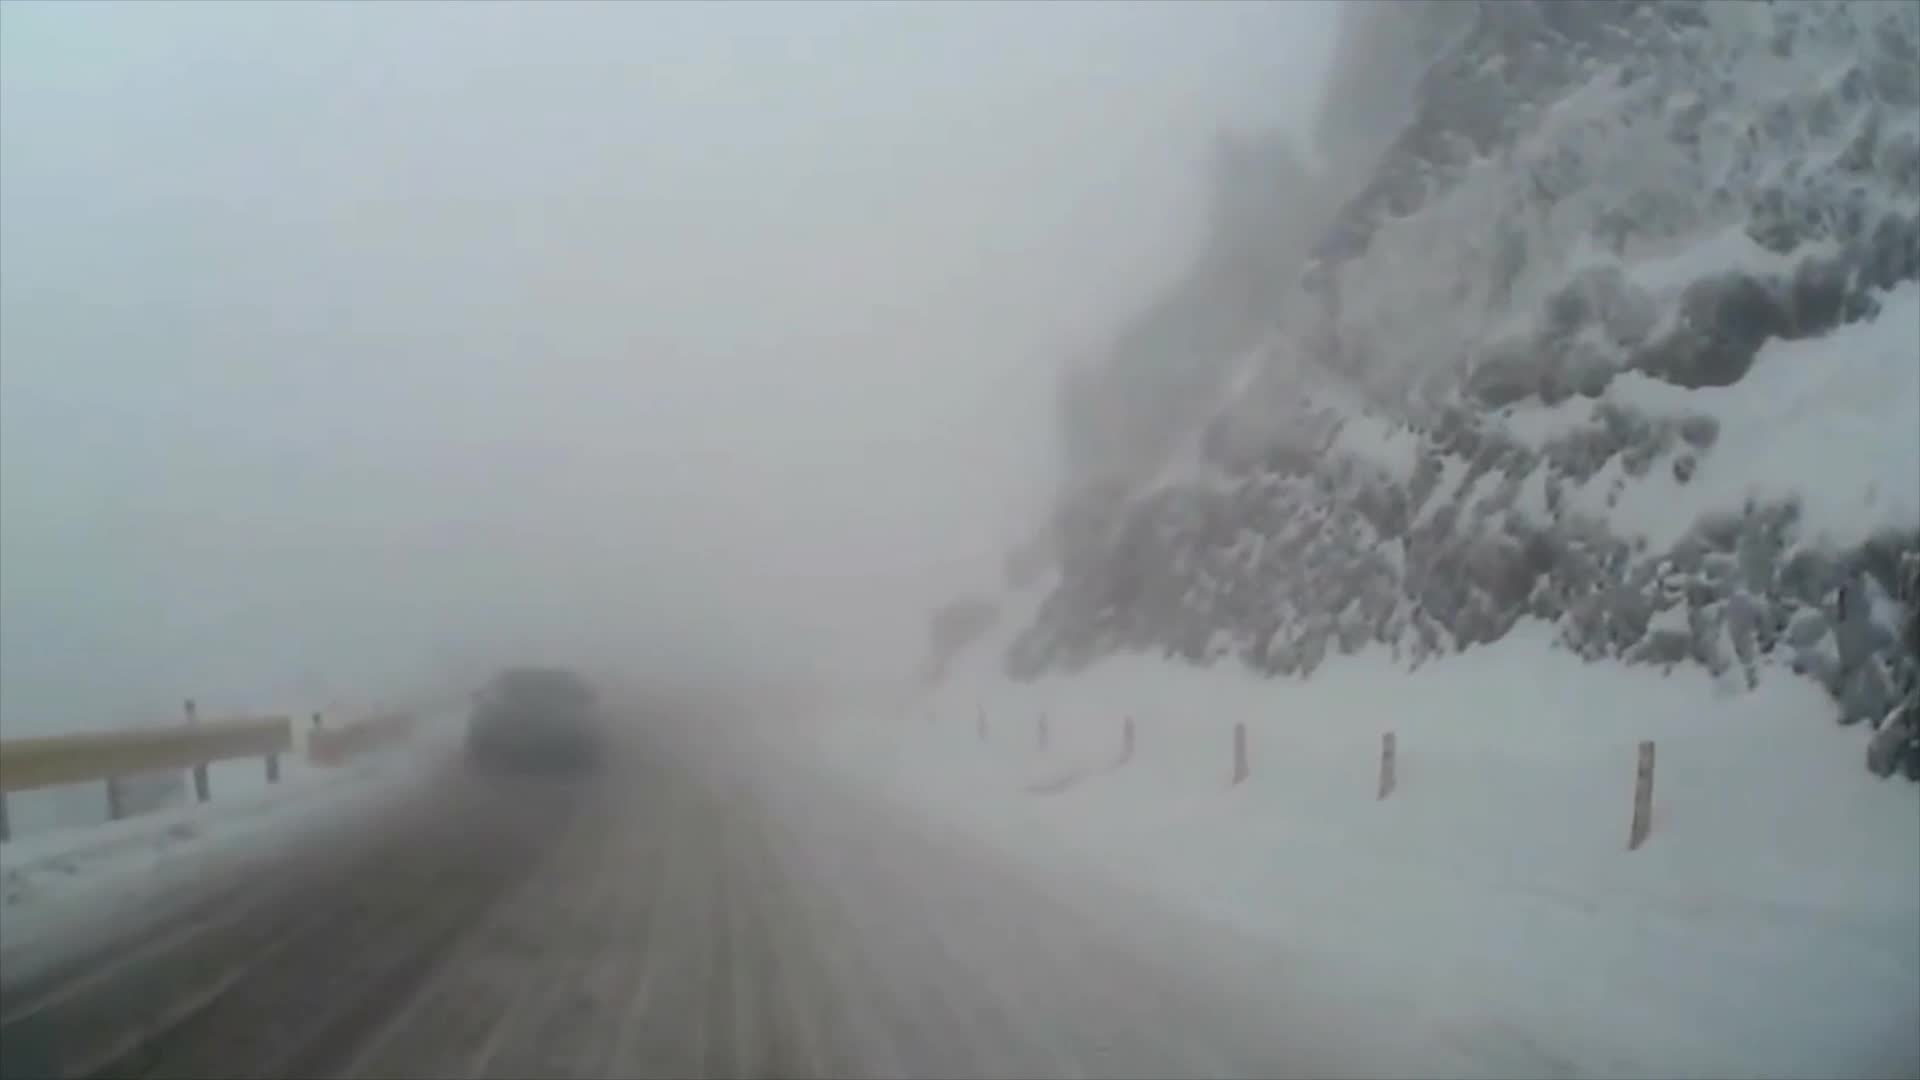vehicle: (465, 667, 605, 766)
